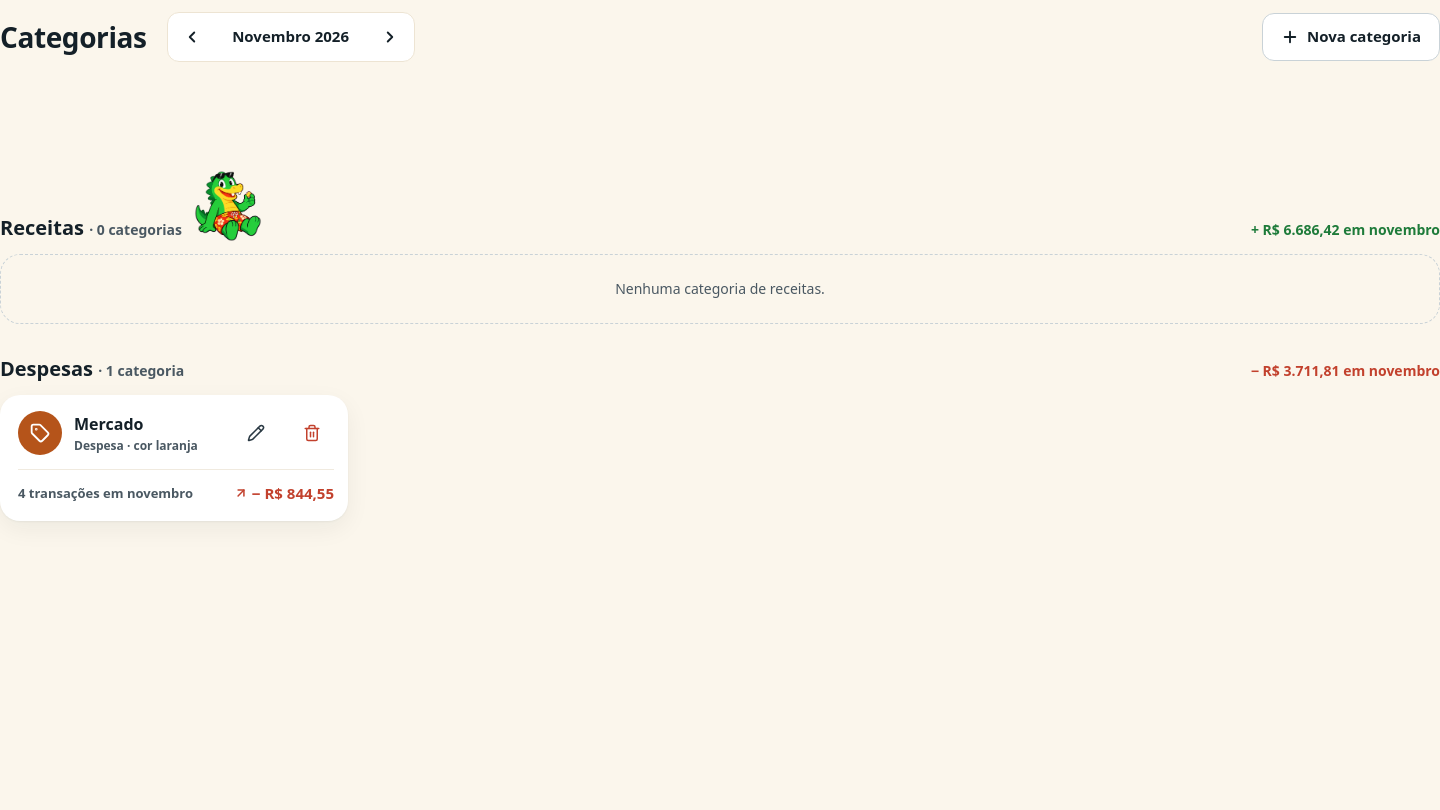
CategoriasPage › bloqueia o tipo de categoria com transações, com explicação
The image size is (1440, 810).
Click the button named "Editar categoria Mercado".
click(256, 433)  # box [234,411,278,455]
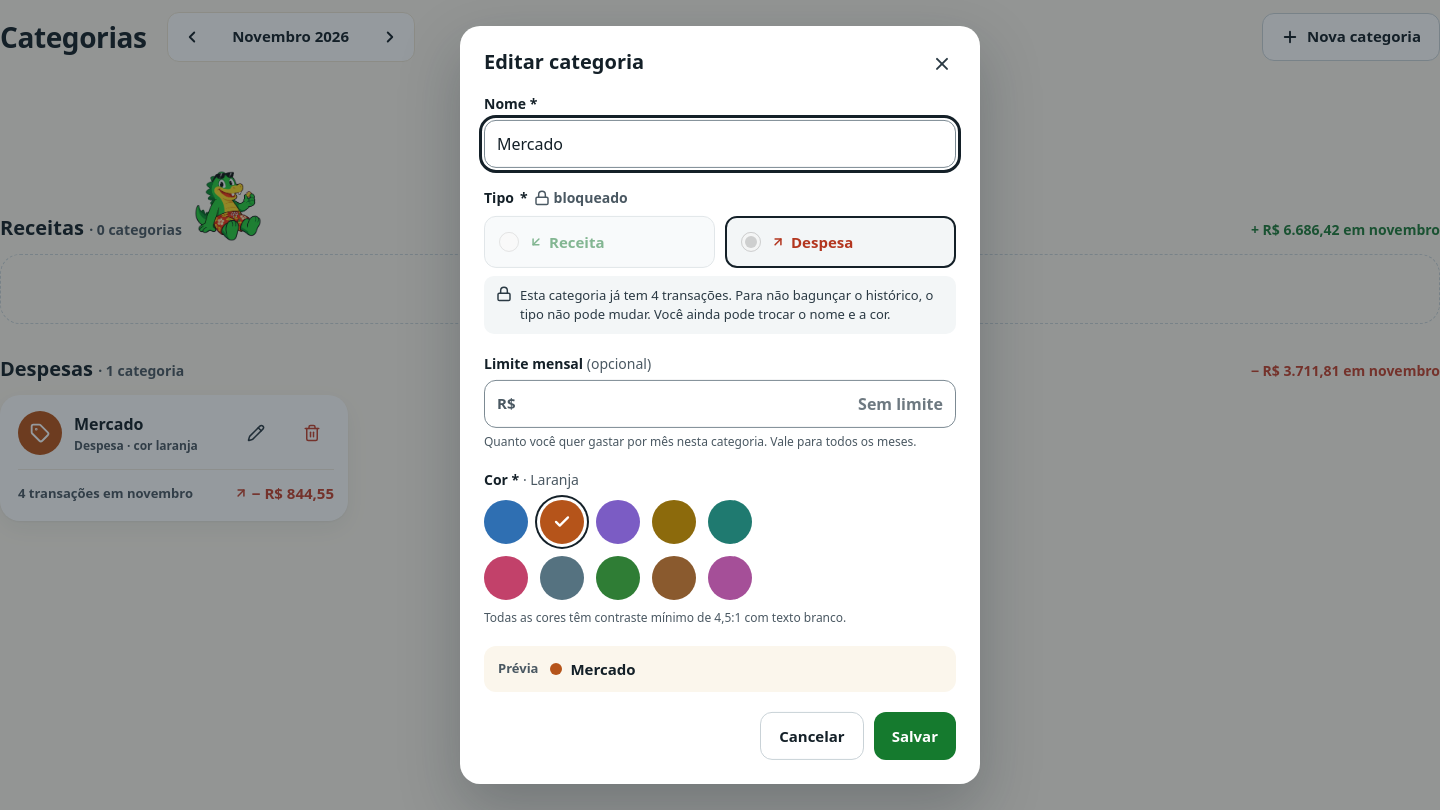
expect the radio button labelled "Despesa" is disabled: met, box [741,232,761,252]
expect the text "Esta categoria já tem 4 transações" is shown: met, box [520,286,944,324]
expect the radio button named "Laranja" is checked: met, box [540,500,584,544]
